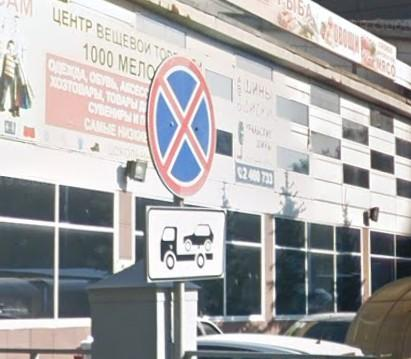No Parking: (146, 53, 220, 202)
